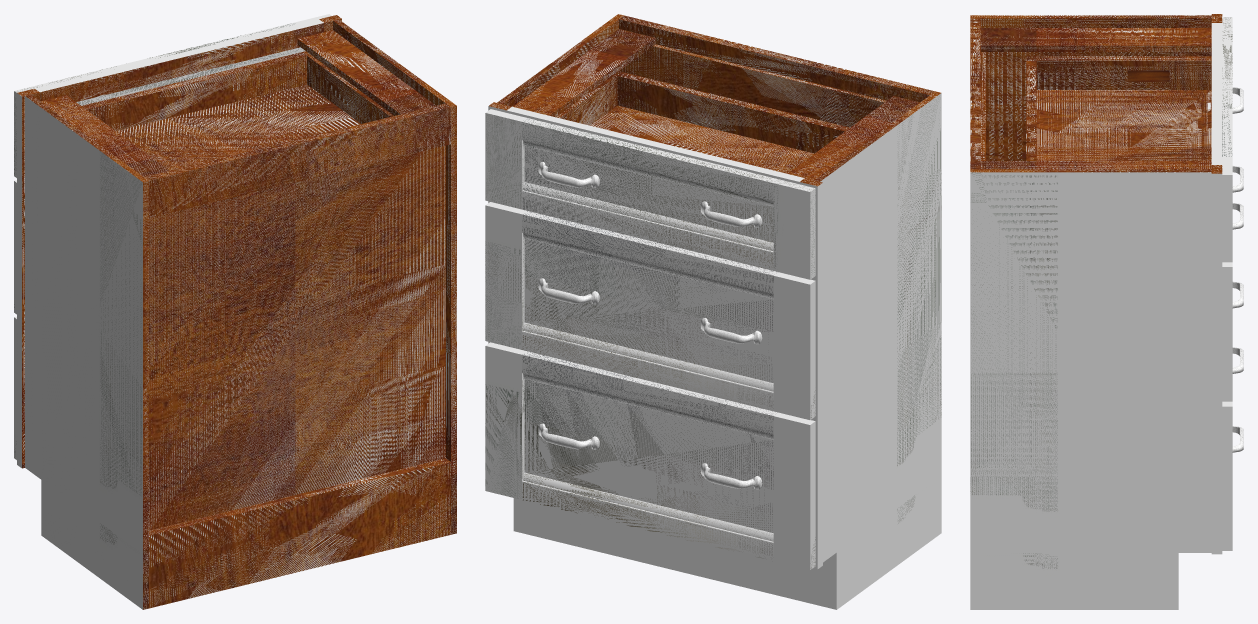
3 views of the same model, side by side, from view 1: azimuth 30°, elevation 25°; view 2: azimuth 150°, elevation 25°; view 3: azimuth 270°, elevation 25° (orthographic). The views are drawn at different scales.
Visible parts, largest first — view 1: mesh4_mesh4-geometry, mesh7_mesh7-geometry, mesh12_mesh12-geometry, mesh3_mesh3-geometry, mesh19_mesh19-geometry, mesh17_mesh17-geometry, mesh6_mesh6-geometry, mesh5_mesh5-geometry, mesh8_mesh8-geometry, mesh10_mesh10-geometry, mesh14_mesh14-geometry, mesh2_mesh2-geometry (+4 smaller); view 2: mesh26_mesh26-geometry, mesh7_mesh7-geometry, mesh21_mesh21-geometry, mesh23_mesh23-geometry, mesh22_mesh22-geometry, mesh24_mesh24-geometry, mesh13_mesh13-geometry, mesh4_mesh4-geometry, mesh33_mesh33-geometry, mesh17_mesh17-geometry, mesh28_mesh28-geometry, mesh30_mesh30-geometry (+14 smaller); view 3: mesh10_mesh10-geometry, mesh9_mesh9-geometry, mesh19_mesh19-geometry, mesh11_mesh11-geometry, mesh7_mesh7-geometry, mesh16_mesh16-geometry, mesh15_mesh15-geometry, mesh2_mesh2-geometry, mesh24_mesh24-geometry, mesh14_mesh14-geometry, mesh5_mesh5-geometry, mesh3_mesh3-geometry (+8 smaller).
Boxes of the visible parts, bbox=[...] form: mesh4_mesh4-geometry: bbox=[149, 145, 445, 530]; mesh7_mesh7-geometry: bbox=[41, 106, 148, 553]; mesh12_mesh12-geometry: bbox=[149, 458, 450, 608]; mesh3_mesh3-geometry: bbox=[144, 103, 450, 217]; mesh19_mesh19-geometry: bbox=[116, 84, 360, 170]; mesh17_mesh17-geometry: bbox=[82, 52, 306, 130]; mesh6_mesh6-geometry: bbox=[25, 94, 46, 479]; mesh5_mesh5-geometry: bbox=[35, 19, 323, 101]; mesh8_mesh8-geometry: bbox=[41, 480, 148, 609]; mesh10_mesh10-geometry: bbox=[349, 31, 456, 478]; mesh14_mesh14-geometry: bbox=[297, 30, 435, 115]; mesh2_mesh2-geometry: bbox=[17, 15, 341, 468]; mesh26_mesh26-geometry: bbox=[524, 239, 773, 532]; mesh7_mesh7-geometry: bbox=[831, 91, 941, 552]; mesh21_mesh21-geometry: bbox=[522, 211, 778, 439]; mesh23_mesh23-geometry: bbox=[522, 322, 773, 561]; mesh22_mesh22-geometry: bbox=[773, 272, 815, 569]; mesh24_mesh24-geometry: bbox=[485, 202, 526, 499]; mesh13_mesh13-geometry: bbox=[519, 499, 830, 608]; mesh4_mesh4-geometry: bbox=[619, 44, 886, 127]; mesh33_mesh33-geometry: bbox=[524, 146, 773, 242]; mesh17_mesh17-geometry: bbox=[617, 72, 849, 153]; mesh28_mesh28-geometry: bbox=[522, 118, 778, 206]; mesh30_mesh30-geometry: bbox=[522, 182, 773, 270]; mesh10_mesh10-geometry: bbox=[970, 169, 1178, 552]; mesh9_mesh9-geometry: bbox=[1178, 169, 1211, 552]; mesh19_mesh19-geometry: bbox=[1036, 90, 1211, 160]; mesh11_mesh11-geometry: bbox=[970, 553, 1178, 609]; mesh7_mesh7-geometry: bbox=[970, 15, 1178, 160]; mesh16_mesh16-geometry: bbox=[1026, 56, 1211, 89]; mesh15_mesh15-geometry: bbox=[980, 28, 1211, 51]; mesh2_mesh2-geometry: bbox=[1211, 14, 1222, 554]; mesh24_mesh24-geometry: bbox=[1222, 262, 1232, 550]; mesh14_mesh14-geometry: bbox=[980, 161, 1211, 169]; mesh5_mesh5-geometry: bbox=[1211, 23, 1222, 164]; mesh3_mesh3-geometry: bbox=[970, 18, 980, 169].
Size of the model in its own units: 0.5629 by 0.7193 by 0.4072.
